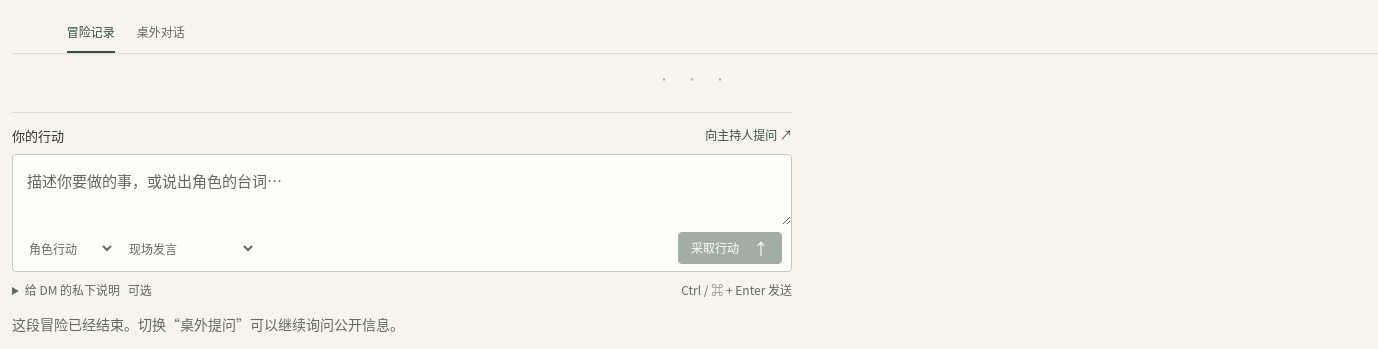
Test: switches the editor with the visible channel, and keeps a completed result visible until an explicit DM question
The width and height of the screenshot is (1378, 349).
(page scrolled)
Click the button "桌外对话": (161, 32) [137,12,185,53]
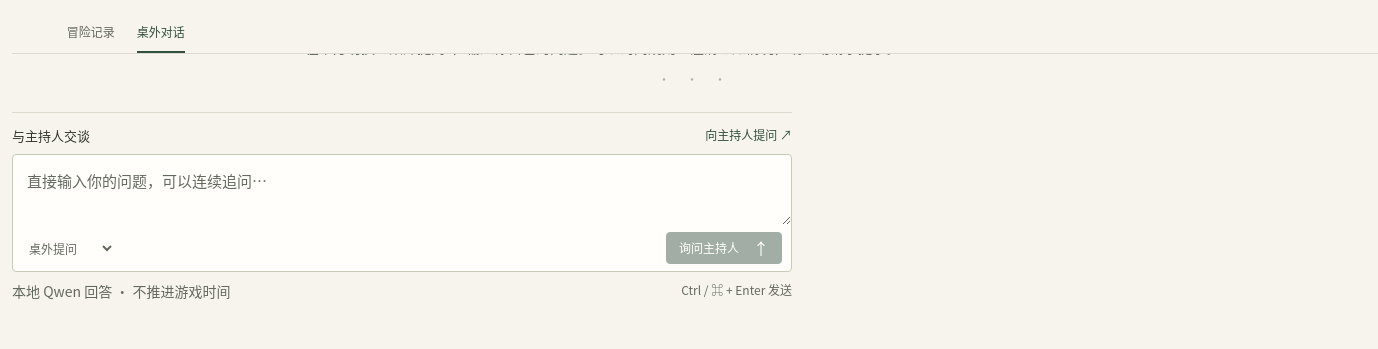
Now the dropdown named "输入方式" shows "桌外提问", box [22,232,115,264]
In the text box named "你的行动": (402, 190) [13,155,791,225], type "我想知道结果"
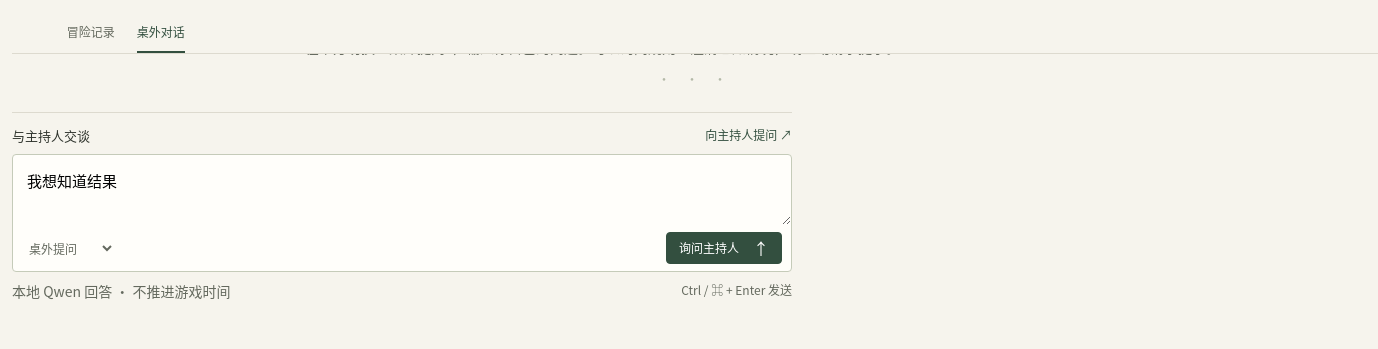
Click the button "询问主持人 ↑": (724, 248) [666,232,782,264]
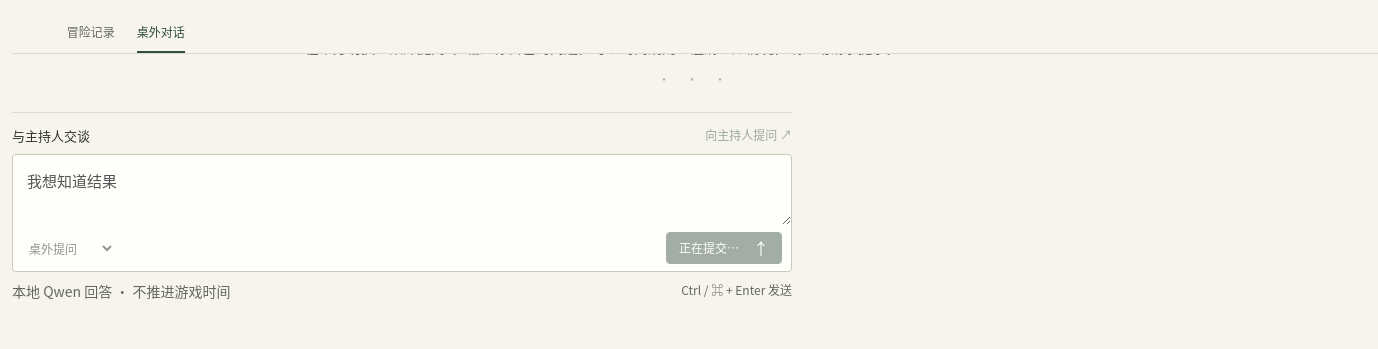
Click the button "冒险记录": (91, 32) [67,12,115,53]
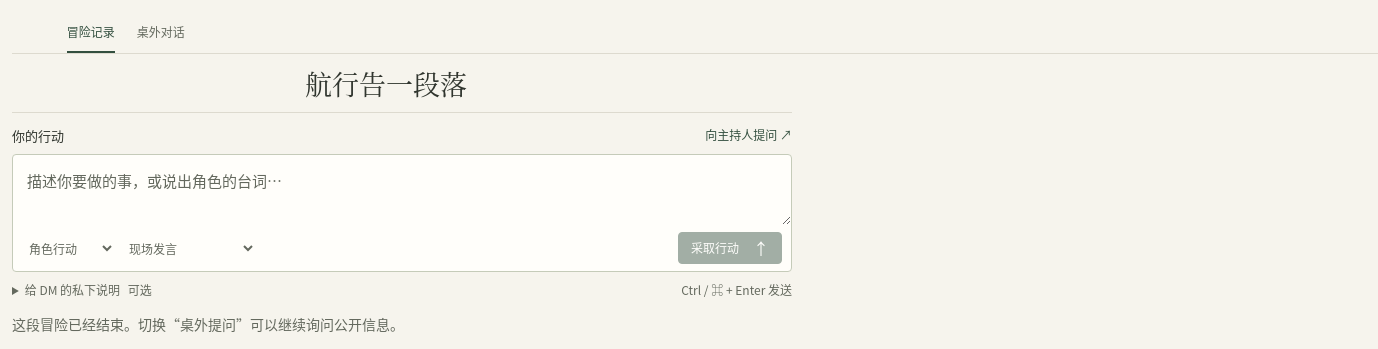
Now the heading "航行告一段落" is shown, box [305,64,467,103]
